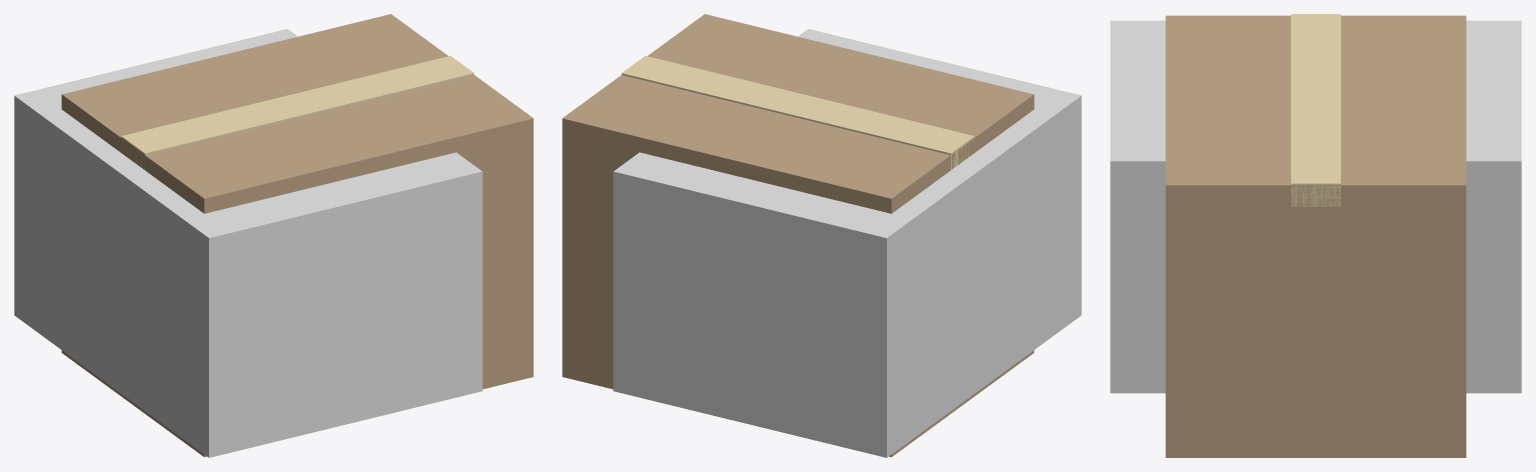
The model's file is Cardboard.glb.
3 renders of one model, left to right at view 1: azimuth 30°, elevation 25°; view 2: azimuth 150°, elevation 25°; view 3: azimuth 270°, elevation 25°, orthographic. The views are drawn at different scales.
Visible parts, largest first — view 1: MW_Cutter, CardboardBox, TapeMain; view 2: MW_Cutter, CardboardBox, TapeMain; view 3: CardboardBox, MW_Cutter, TapeMain, TapeDropRight.
Boxes of the visible parts, x1,y1,x2,y2 form: MW_Cutter: (14,29,482,457); CardboardBox: (61,14,533,457); TapeMain: (121,56,474,154); MW_Cutter: (613,29,1081,457); CardboardBox: (562,14,1034,457); TapeMain: (621,56,974,154); CardboardBox: (1165,15,1466,457); MW_Cutter: (1110,20,1521,393); TapeMain: (1291,14,1340,185); TapeDropRight: (1291,185,1340,206).
Bounding box in the file's own units: 0.426 × 0.302 × 0.41.
